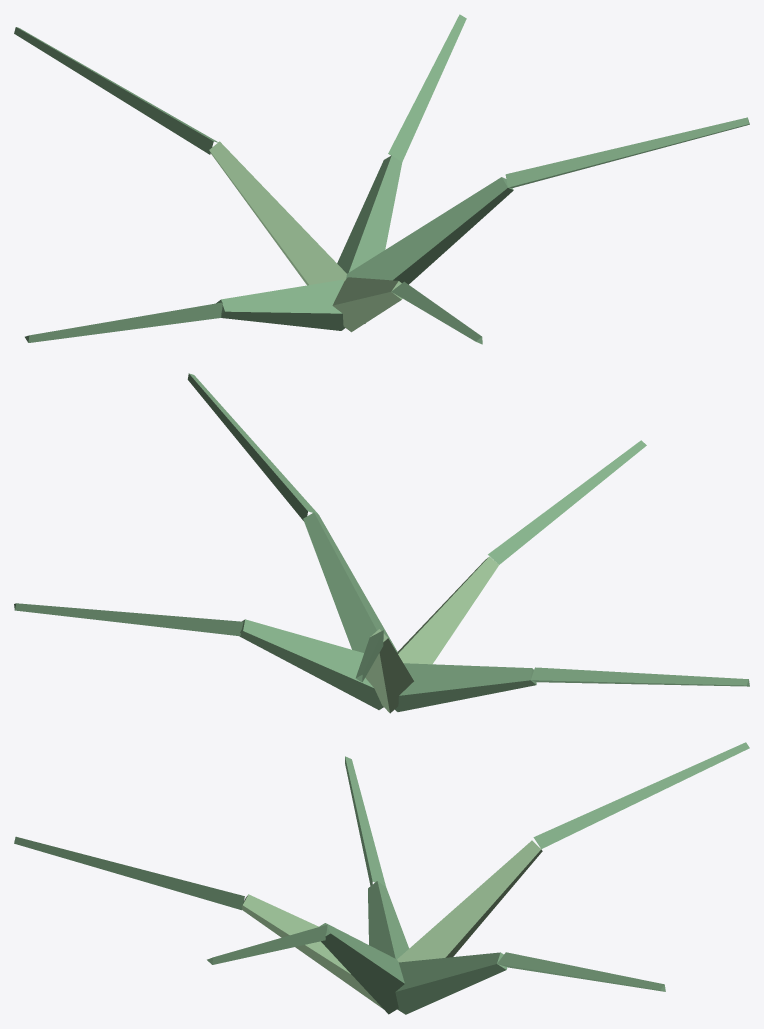
Rendered from fern_v20.glb.
3 renders of one model, top to bottom at view 1: azimuth 30°, elevation 25°; view 2: azimuth 150°, elevation 25°; view 3: azimuth 270°, elevation 25°, orthographic. The views are drawn at different scales.
Visible parts, largest first — view 1: lod0; view 2: lod0; view 3: lod0.
Part boxes in pixels (<box>): lod0: <box>14,14,749,344</box>; lod0: <box>14,373,749,713</box>; lod0: <box>14,742,749,1014</box>.
Size of what is drawn, in the model's own units: 0.9381 by 0.2839 by 0.9474.
